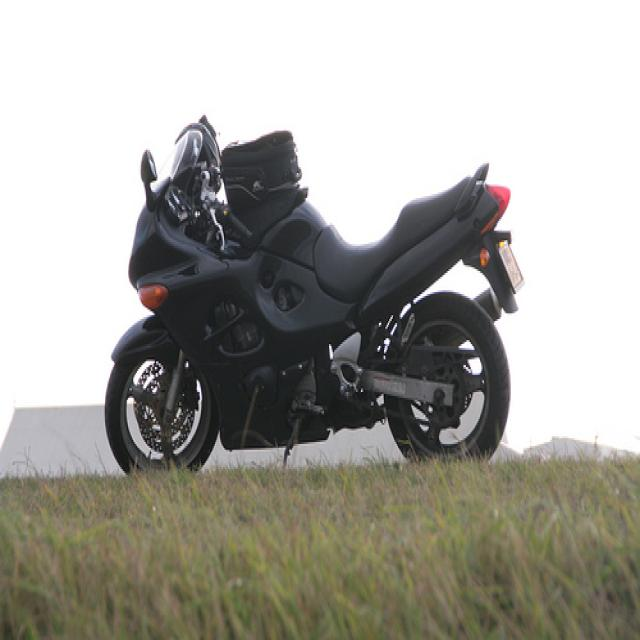motor: (103, 106, 532, 486)
